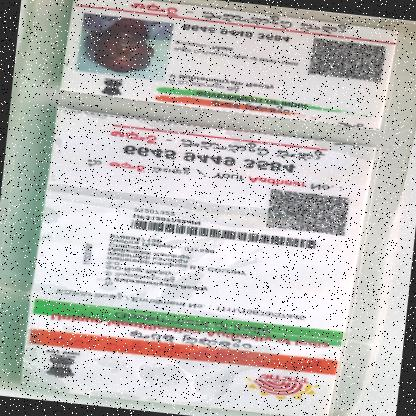aadhaar_card: (12, 0, 411, 415)
